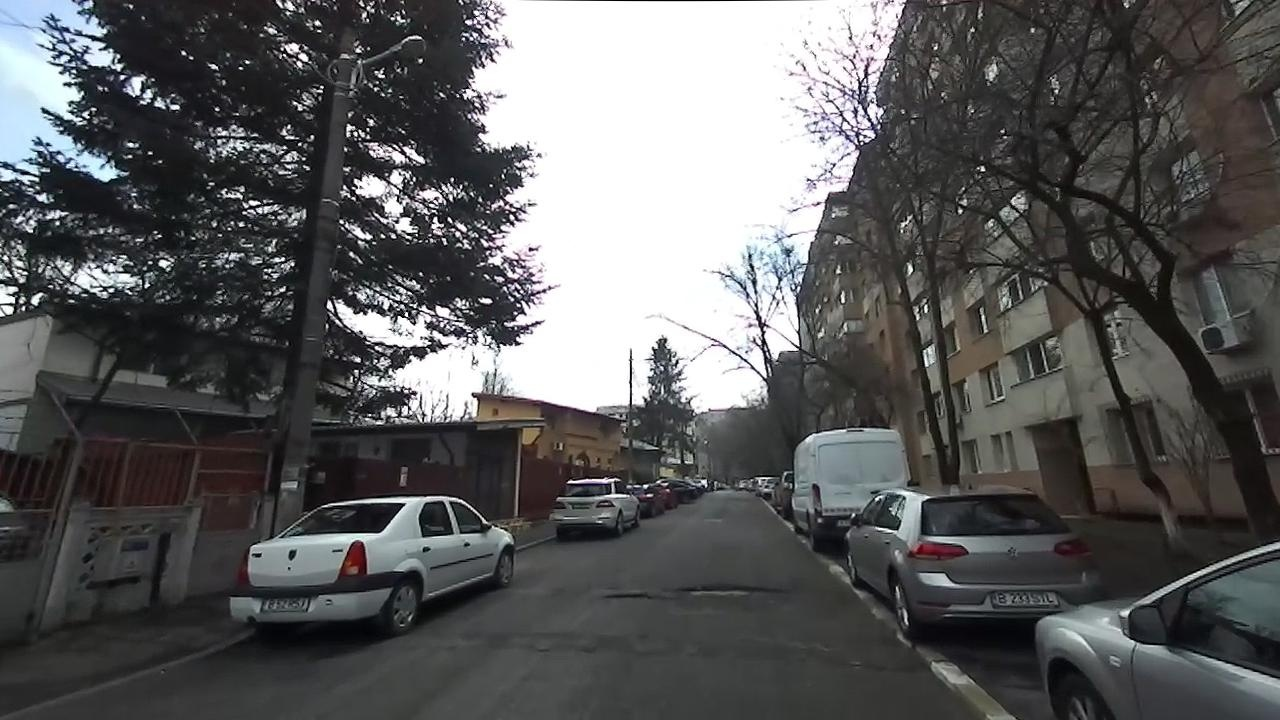pothole: (677, 580, 791, 602), (602, 590, 658, 602)
